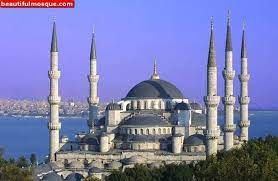Mosque: (46, 12, 253, 167)
